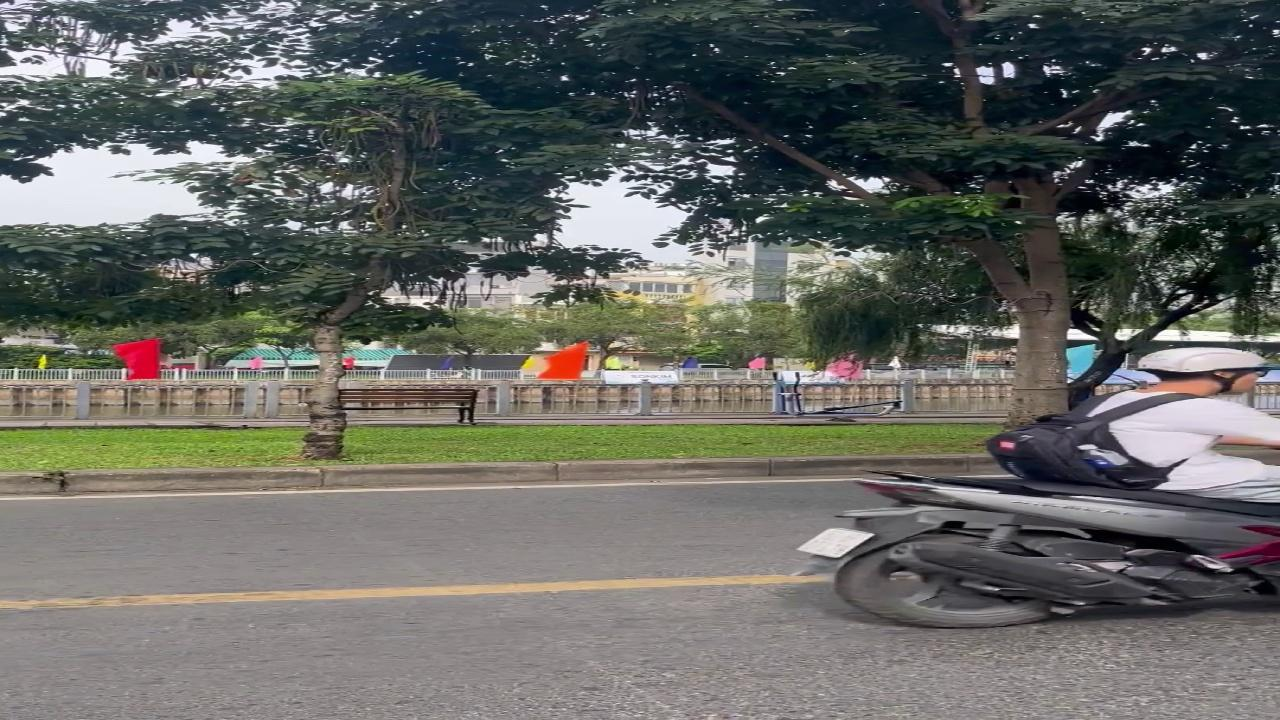Helmet: (1138, 343, 1271, 373)
Motor: (797, 473, 1279, 627)
